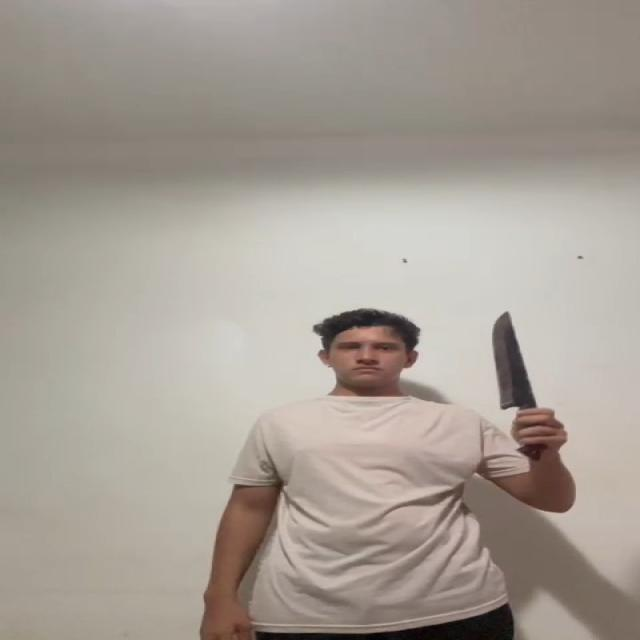knife: (488, 310, 537, 408)
